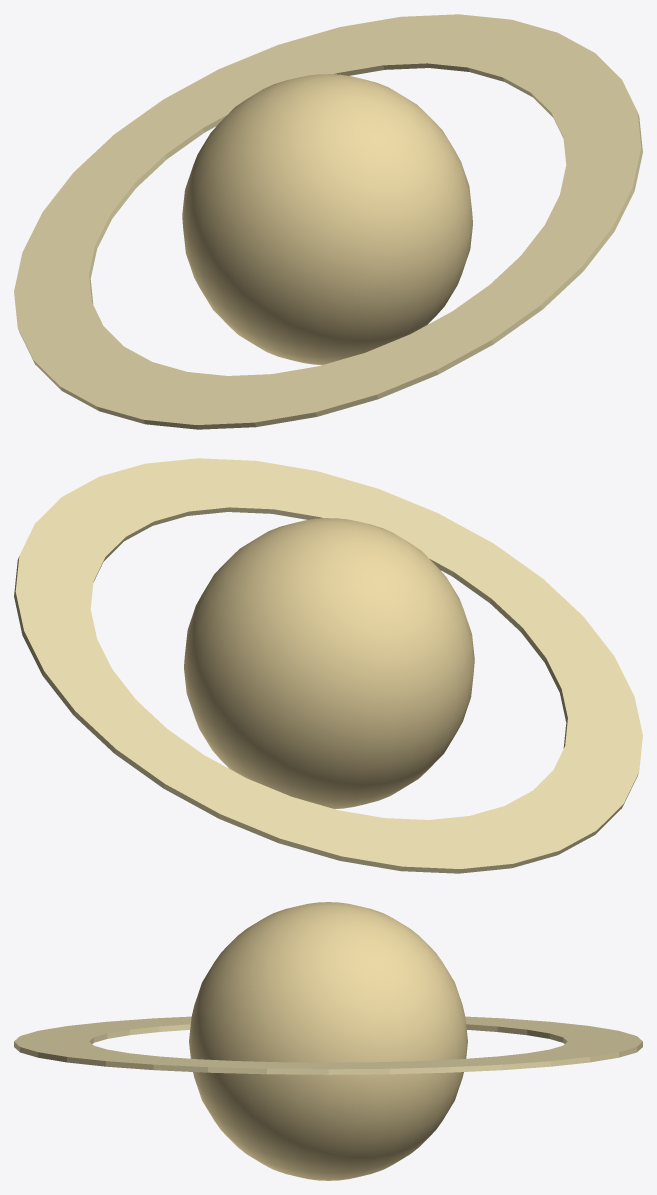
3 renders of one model, top to bottom at view 1: azimuth 30°, elevation 25°; view 2: azimuth 150°, elevation 25°; view 3: azimuth 270°, elevation 25°, orthographic. The views are drawn at different scales.
Parts seen in each view (by area): view 1: saturn; view 2: saturn; view 3: saturn.
Part boxes in pixels (box(x1,y1,x2,y2)): saturn: box(14, 14, 642, 429); saturn: box(14, 458, 642, 873); saturn: box(14, 902, 642, 1180).
Size of the model in its own units: 5.95 by 2.8 by 6.31.
